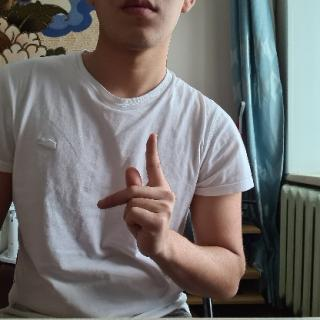DHAA: (91, 129, 182, 263)
